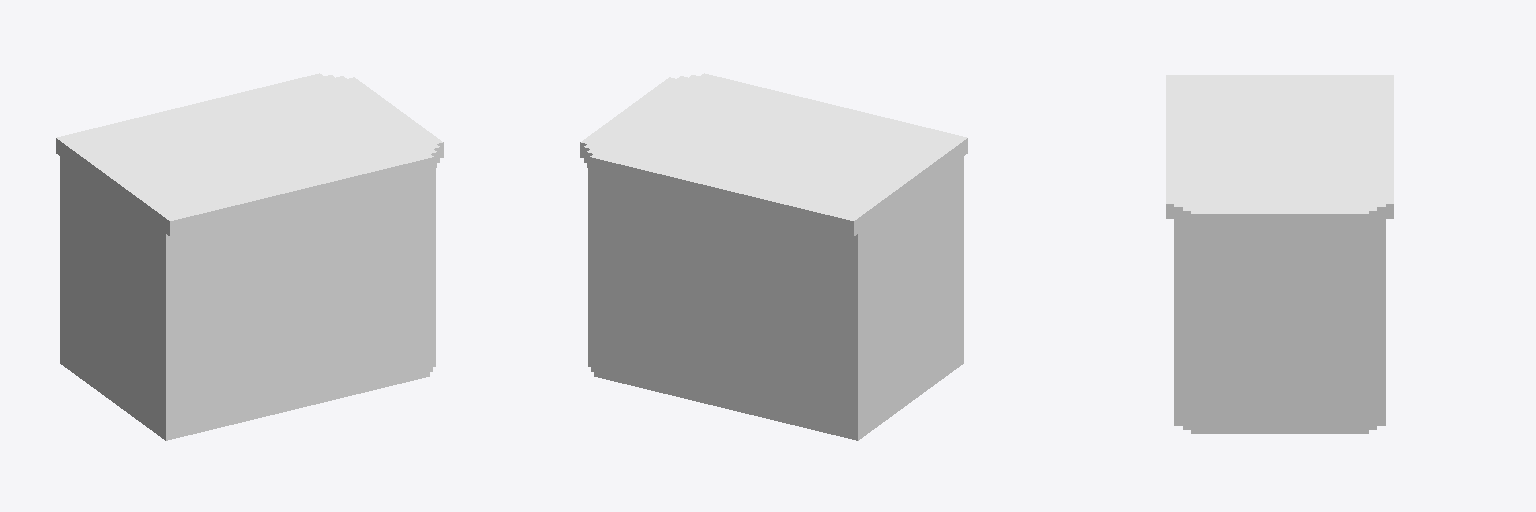
The model's file is ShopTable0.obj.
3 renders of one model, left to right at view 1: azimuth 30°, elevation 25°; view 2: azimuth 150°, elevation 25°; view 3: azimuth 270°, elevation 25°, orthographic.
Visible parts, largest first — view 1: object 1; view 2: object 1; view 3: object 1.
Part boxes in pixels (left/top/right/bottom): object 1: left=56, top=73, right=443, bottom=440; object 1: left=580, top=73, right=967, bottom=440; object 1: left=1166, top=75, right=1393, bottom=433.
Size of the model in its own units: 3.9 by 2.9 by 2.7.